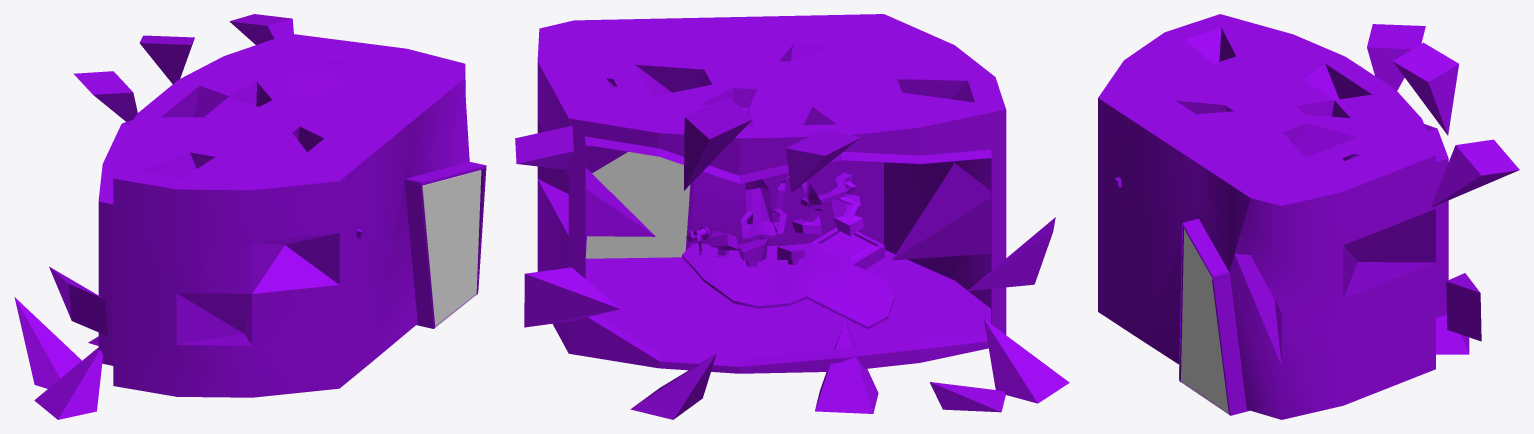
The model's file is DarkFoxControlRoom.FBX.
The picture shows the model from 3 angles, left to right: view 1: azimuth 30°, elevation 25°; view 2: azimuth 150°, elevation 25°; view 3: azimuth 270°, elevation 25°; orthographic projection. The views are drawn at different scales.
Visible parts, largest first — view 1: Box001, Line001; view 2: Box001, Line001; view 3: Box001, Line001.
Boxes of the visible parts, left/top/right/bottom form: Box001: left=14, top=14, right=486, bottom=419; Line001: left=422, top=170, right=481, bottom=327; Box001: left=515, top=14, right=1069, bottom=419; Line001: left=585, top=152, right=690, bottom=258; Box001: left=1098, top=14, right=1519, bottom=419; Line001: left=1181, top=229, right=1228, bottom=414.
Bounding box in the file's own units: 591 × 336 × 478.
